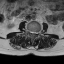CCS_stenosis: (32, 29, 34, 37)
LFS_normal: (36, 29, 38, 35)
LLS_normal: (34, 29, 36, 36)
RFS_normal: (29, 28, 31, 34)
RLS_normal: (31, 29, 32, 36)
